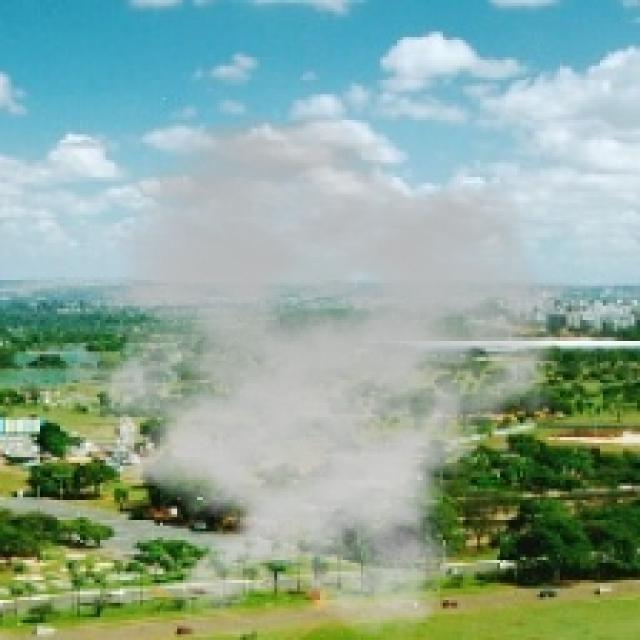Smoke: (31, 112, 592, 638)
